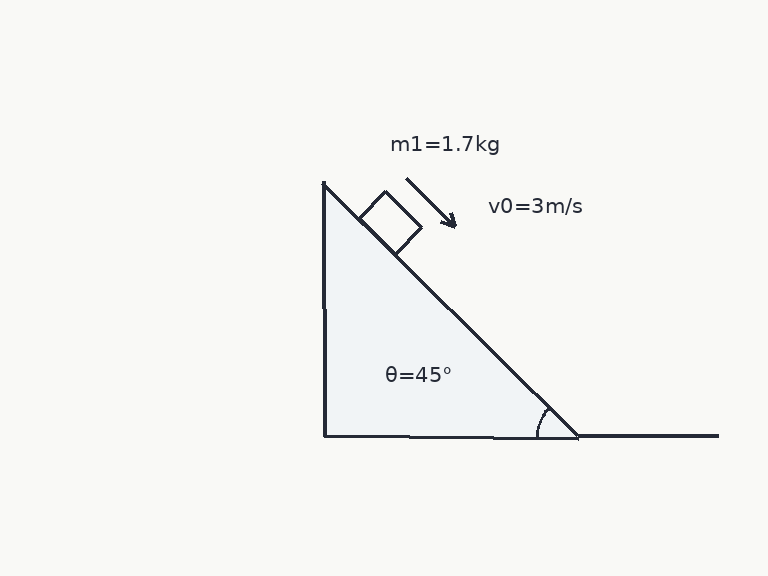block: (357, 189, 423, 256)
ramp: (321, 180, 579, 438)
